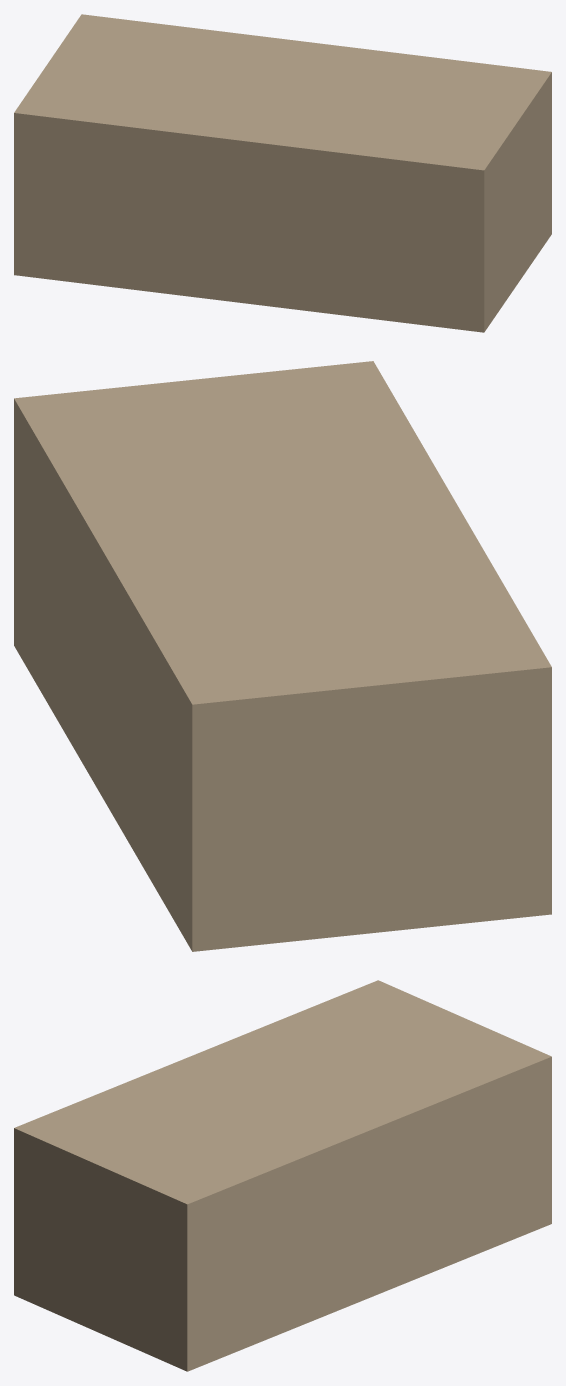
Rendered from bld_108400935.dae.
The picture shows the model from 3 angles, top to bottom: view 1: azimuth 30°, elevation 25°; view 2: azimuth 150°, elevation 25°; view 3: azimuth 270°, elevation 25°; orthographic projection. The views are drawn at different scales.
Visible parts, largest first — view 1: bld_108400935; view 2: bld_108400935; view 3: bld_108400935.
Boxes of the visible parts, x1,y1,x2,y2 form: bld_108400935: (14,14,551,332); bld_108400935: (14,361,551,951); bld_108400935: (14,980,551,1371).
Size of the model in its own units: 22.99 by 23.31 by 8.
